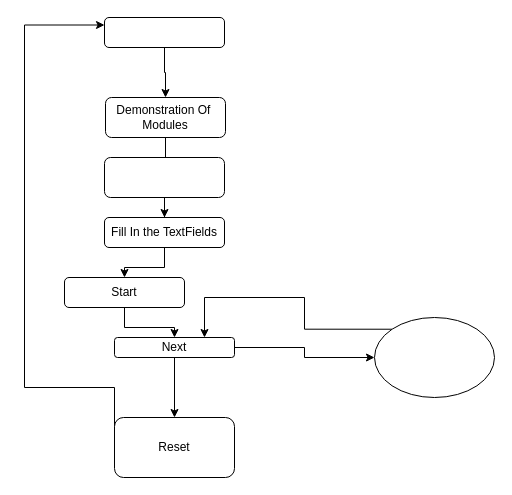
Image size: 512x495. Some labels were removed from this diagram. Each missing label, with the centre of its shape:
Modules: the point at 164,32
Select type of Operation: the point at 164,177
Understand Each Line: the point at 434,357
